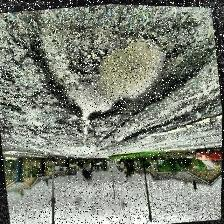pothole: (28, 1, 224, 135)
